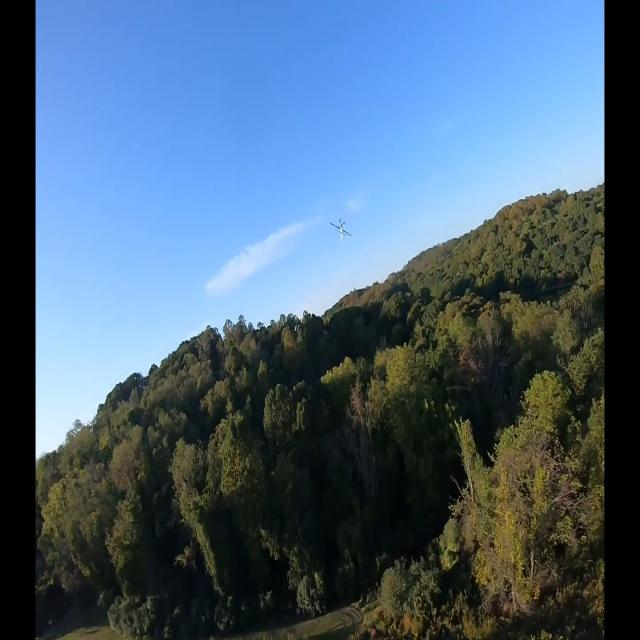iha: (329, 217, 353, 243)
